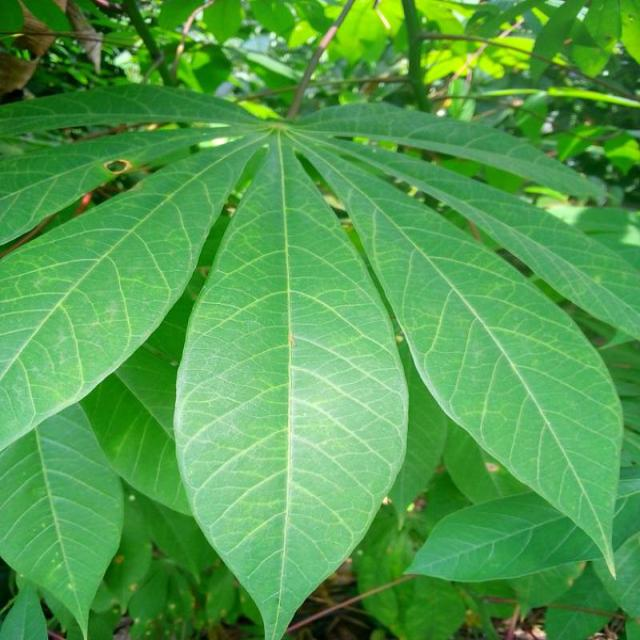cassava leaf: (1, 82, 638, 638), (173, 128, 410, 638), (344, 166, 626, 582)
